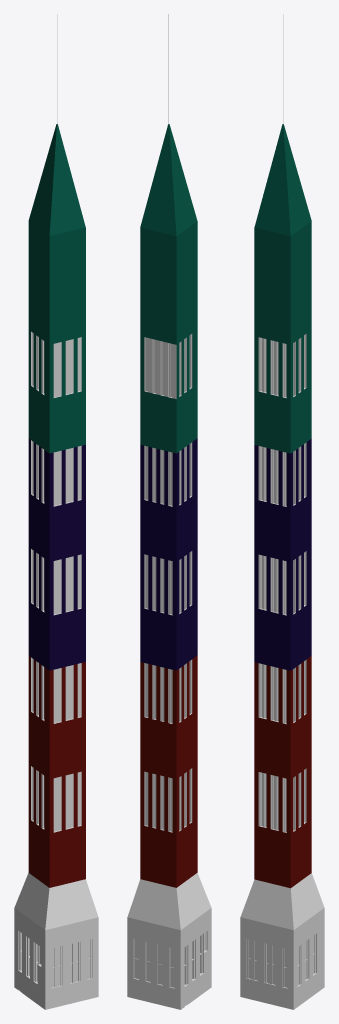
File: the_obelisk.fbx
The picture shows the model from 3 angles, left to right: view 1: azimuth 30°, elevation 25°; view 2: azimuth 150°, elevation 25°; view 3: azimuth 330°, elevation 25°; orthographic projection.
Visible parts, largest first — view 1: Cube; view 2: Cube; view 3: Cube.
Part boxes in pixels (bbox=[...]): Cube: bbox=[14, 14, 98, 1009]; Cube: bbox=[127, 14, 211, 1009]; Cube: bbox=[240, 14, 324, 1009].
Bounding box in the file's own units: 117 × 2058 × 117.
